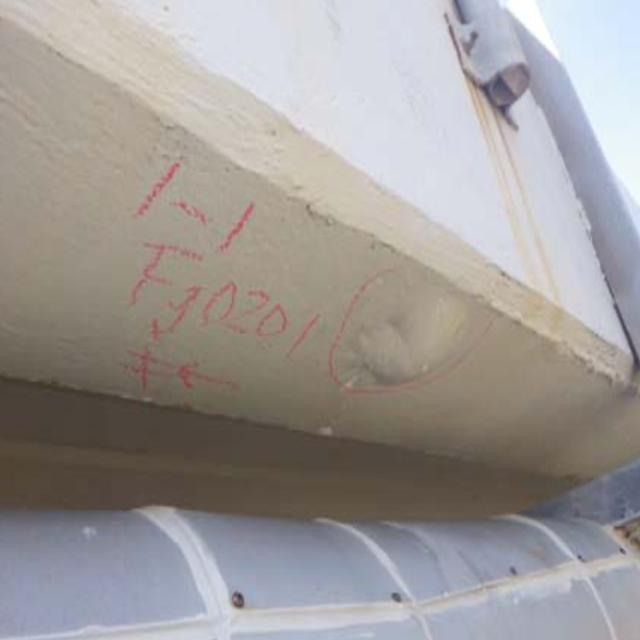spalling: (351, 278, 470, 408)
